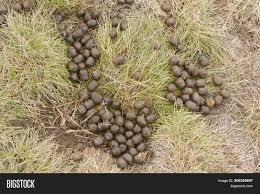Elk: (85, 92, 149, 157), (59, 10, 97, 83), (172, 57, 217, 108)
